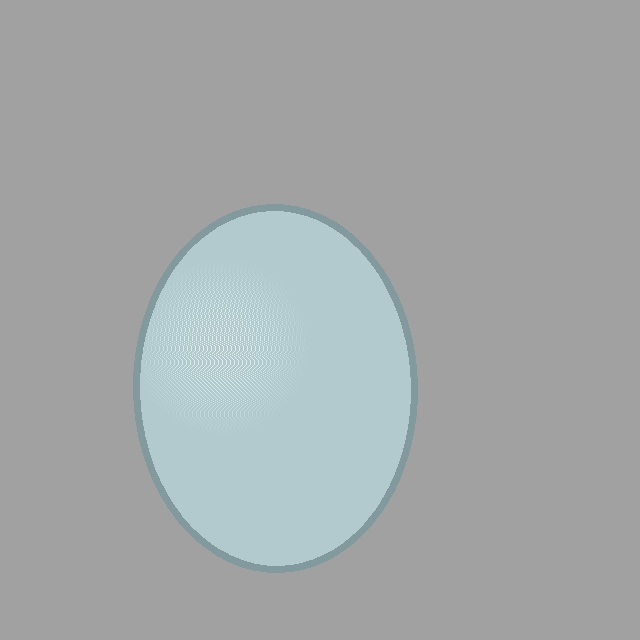lens: (136, 207, 414, 569)
